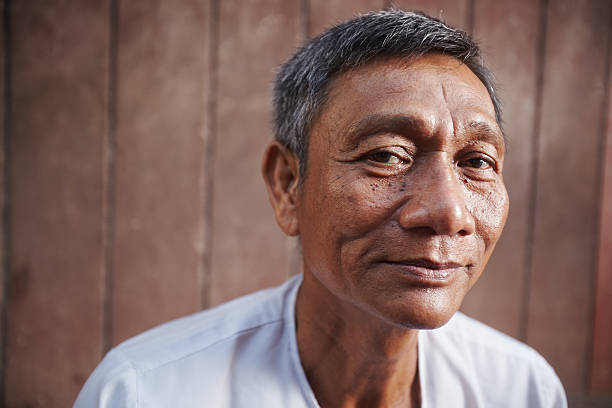face: (323, 85, 514, 330)
